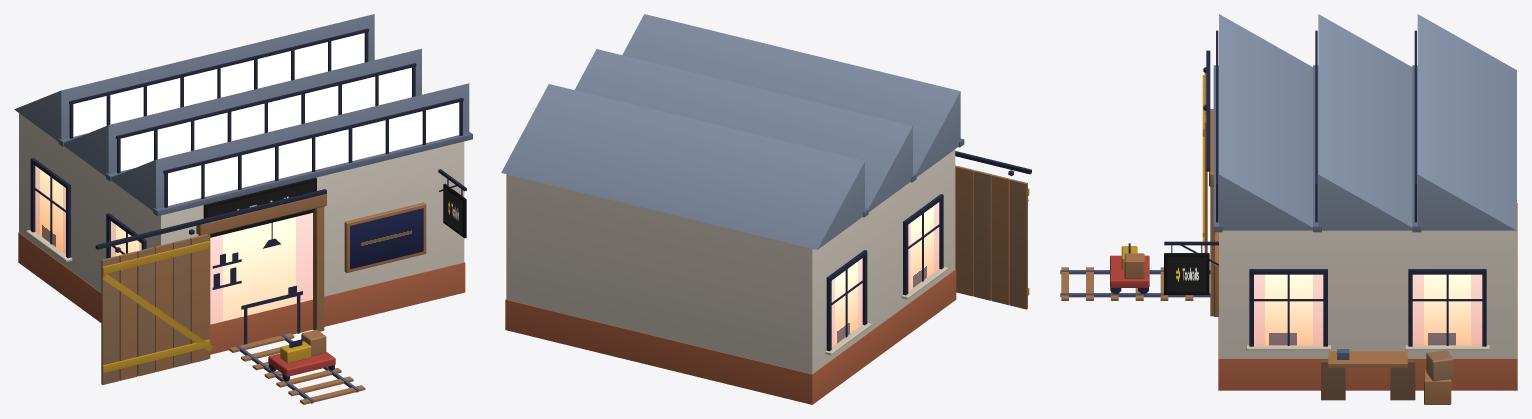
The model's file is lm_toolrails.glb.
3 renders of one model, left to right at view 1: azimuth 30°, elevation 25°; view 2: azimuth 150°, elevation 25°; view 3: azimuth 270°, elevation 25°, orthographic. The views are drawn at different scales.
Parts seen in each view (by area): view 1: building, windows_upper, windows_ground, screen, sign; view 2: building, windows_ground; view 3: building, windows_ground, sign.
Boxes of the visible parts, box(x1,y1,x2,y2) form: building: box(14, 14, 472, 404); windows_upper: box(73, 33, 459, 205); windows_ground: box(35, 166, 312, 324); screen: box(350, 208, 423, 269); sign: box(208, 182, 462, 234); building: box(501, 14, 1031, 404); windows_ground: box(831, 202, 939, 346); building: box(1060, 14, 1517, 404); windows_ground: box(1254, 274, 1482, 345); sign: box(1167, 257, 1206, 292).
Bounding box in the file's own units: 9.88 × 4.85 × 9.21.
5 materials, 3 textured.
